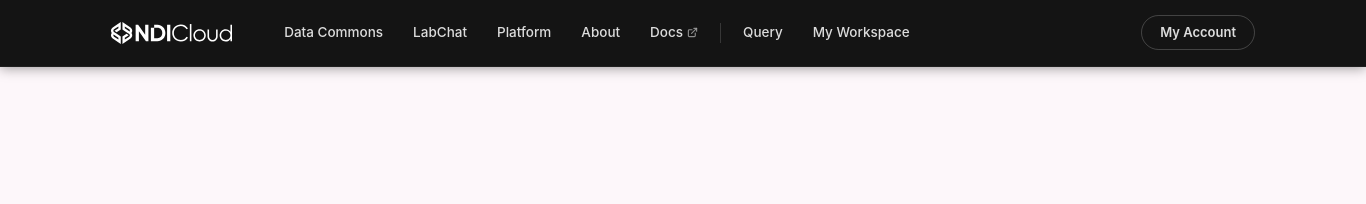
Test: Header user menu (desktop, authenticated) › opens the user menu and reveals Account + Bookmarks + Log out
Step 1. Click the button "My Account" → {"x": 1198, "y": 33}, box [1141, 15, 1255, 50]
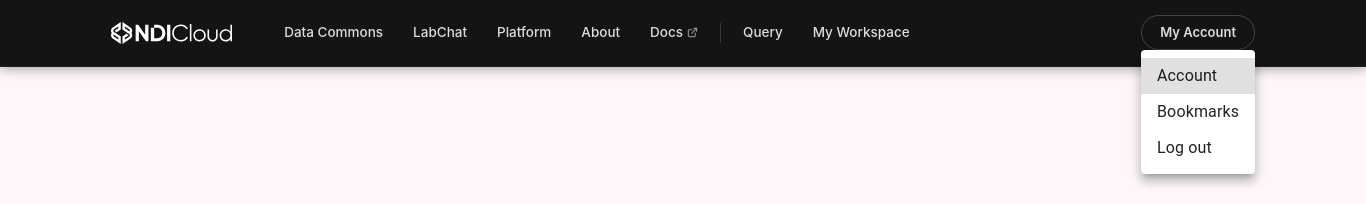
Check: the menu item "Account" is shown, box [1141, 58, 1255, 94]
Check: the menu item "Log out" is shown, box [1157, 138, 1212, 157]
